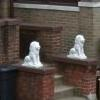Statue: (13, 31, 47, 79)
